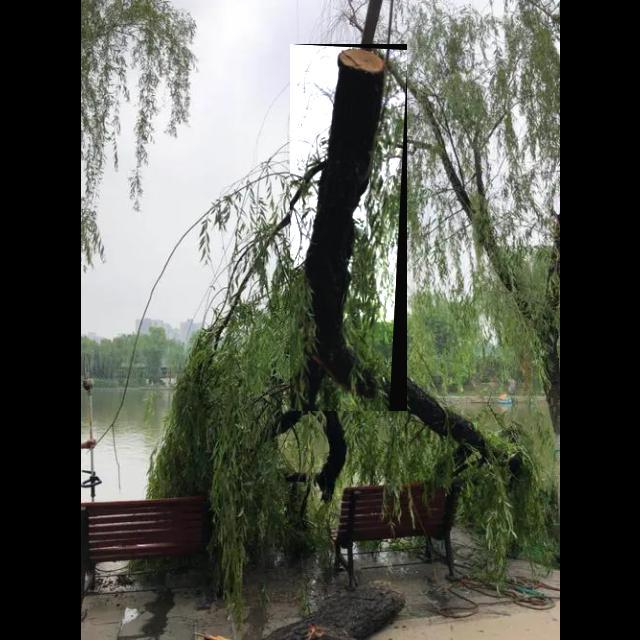fallen_tree: (290, 44, 408, 412)
